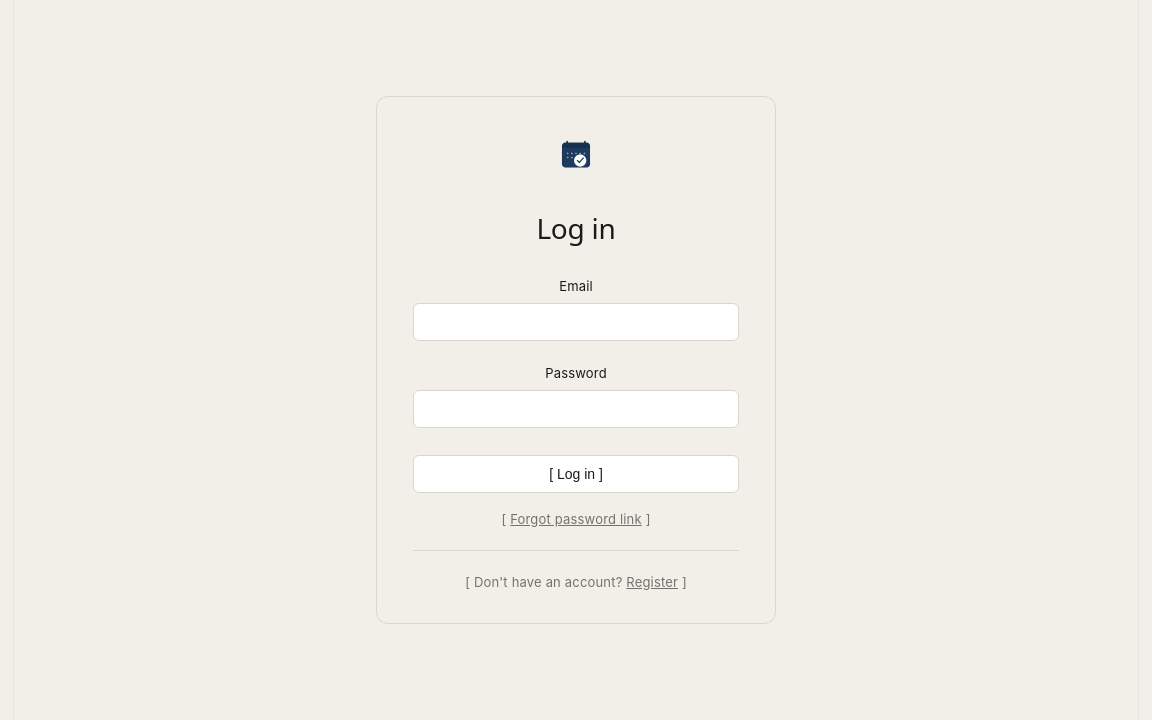
it: Login Page › shows error message on failed login
In the field labelled "Email": x=576, y=322 [413, 303, 739, 341], type "test@example.com"
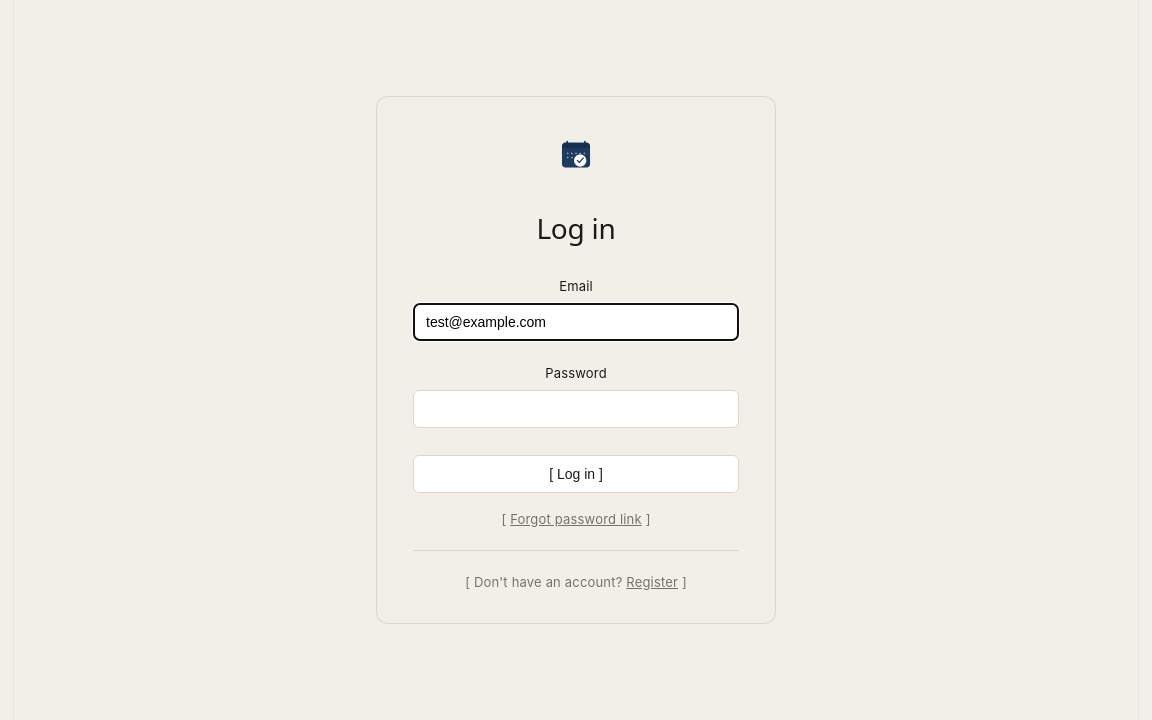
In the password field labelled "Password": x=576, y=409 [413, 390, 739, 428], type "wrongpassword"
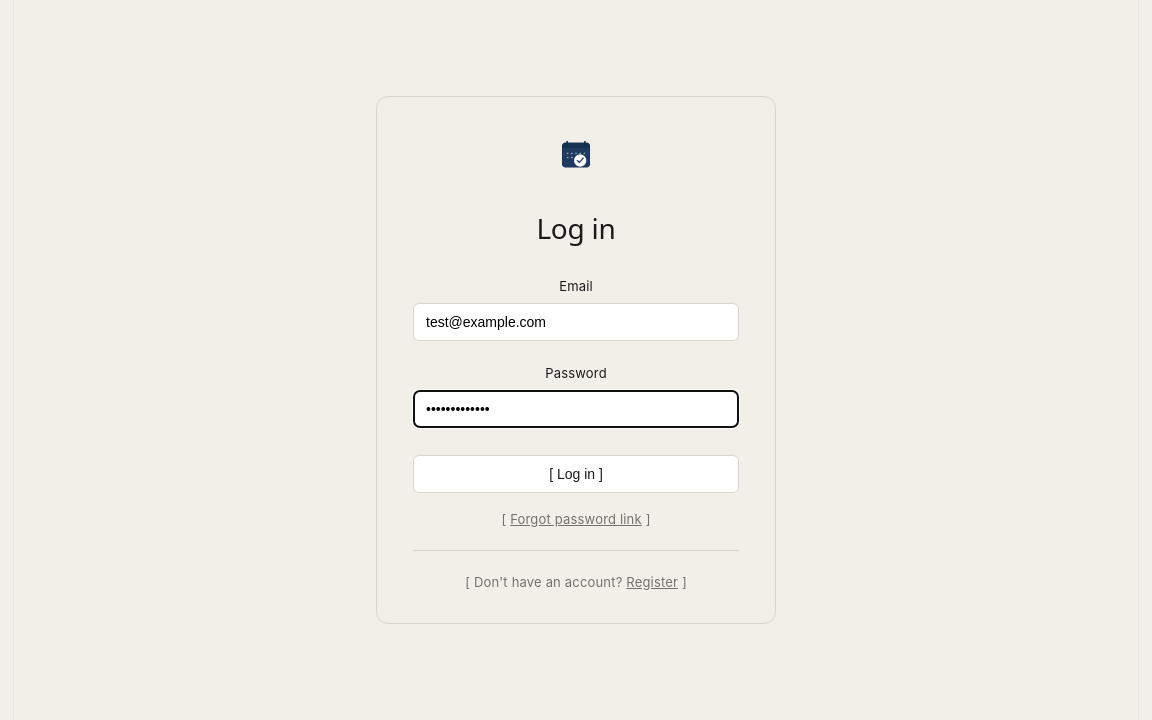
Click the button "[ Log in ]": x=576, y=474 [413, 455, 739, 493]
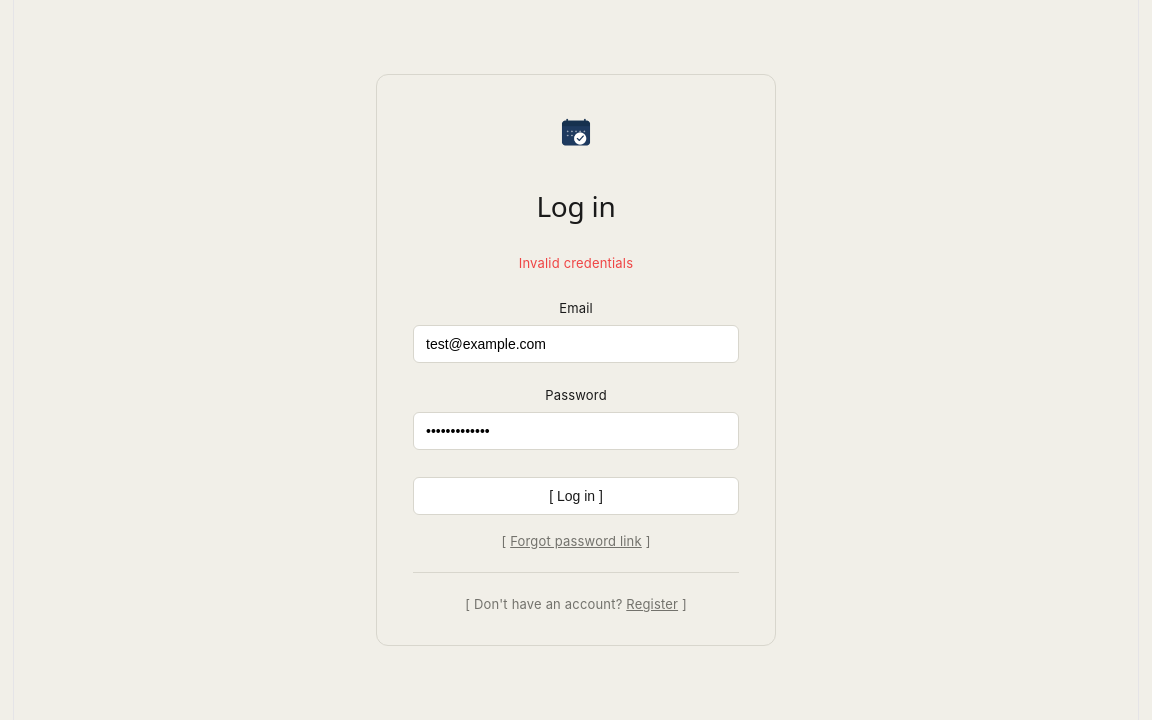
Check: the message "Invalid credentials" is shown, box [519, 255, 633, 271]
